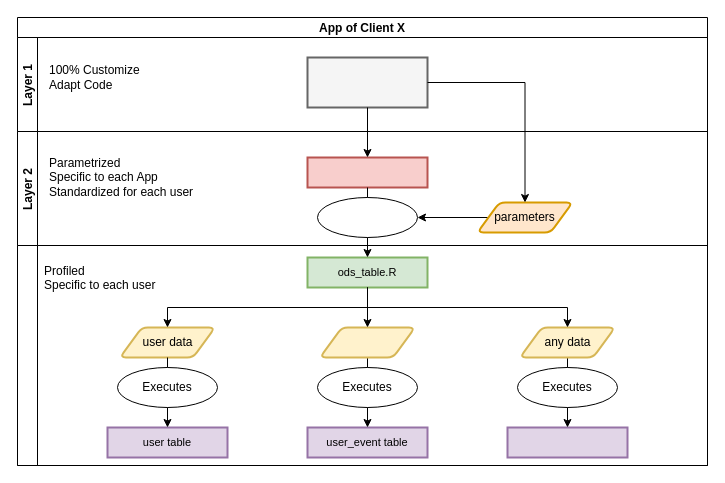
Image size: 725x483. Some labels were removed from this diagram. Here are the shapes that lost their labels. From the top down, the box of each, then its label:
(306, 56, 428, 108): LAYER 1 app.R
(306, 156, 428, 188): OdapesSetting.R
(316, 196, 418, 238): Decides
(16, 244, 708, 466): Layer 3
(318, 326, 416, 358): event data
(506, 426, 628, 458): any other table
